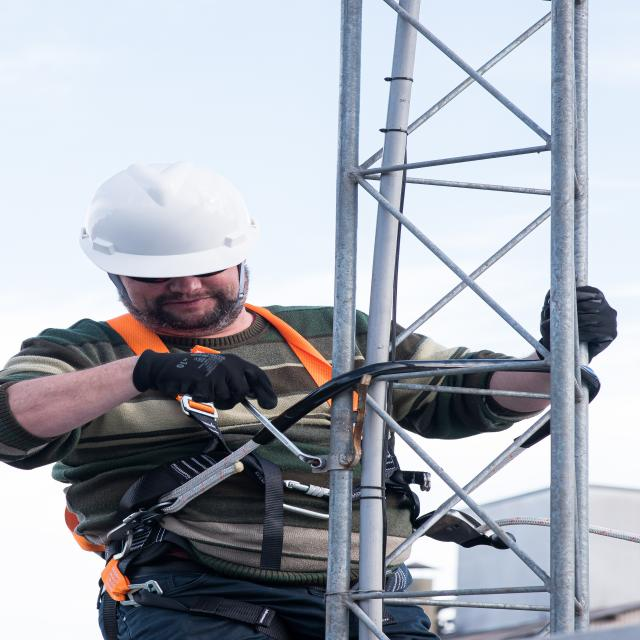capacete: (70, 155, 263, 286)
corda de vida: (59, 299, 441, 640)
luva: (124, 340, 287, 418), (530, 281, 620, 377)
